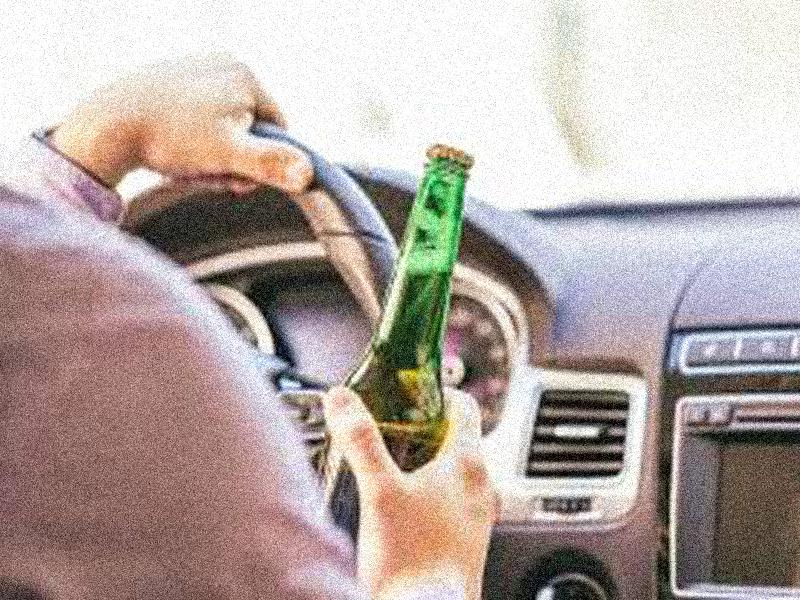Beer: (310, 141, 475, 580)
